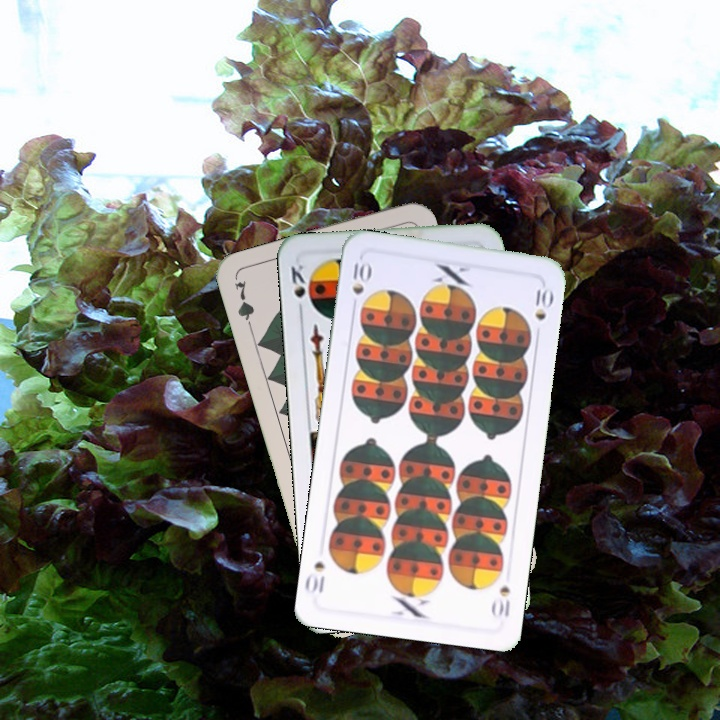G7: (230, 276, 257, 335)
S10: (348, 258, 373, 313), (488, 581, 513, 620)
SK: (287, 260, 308, 318)
